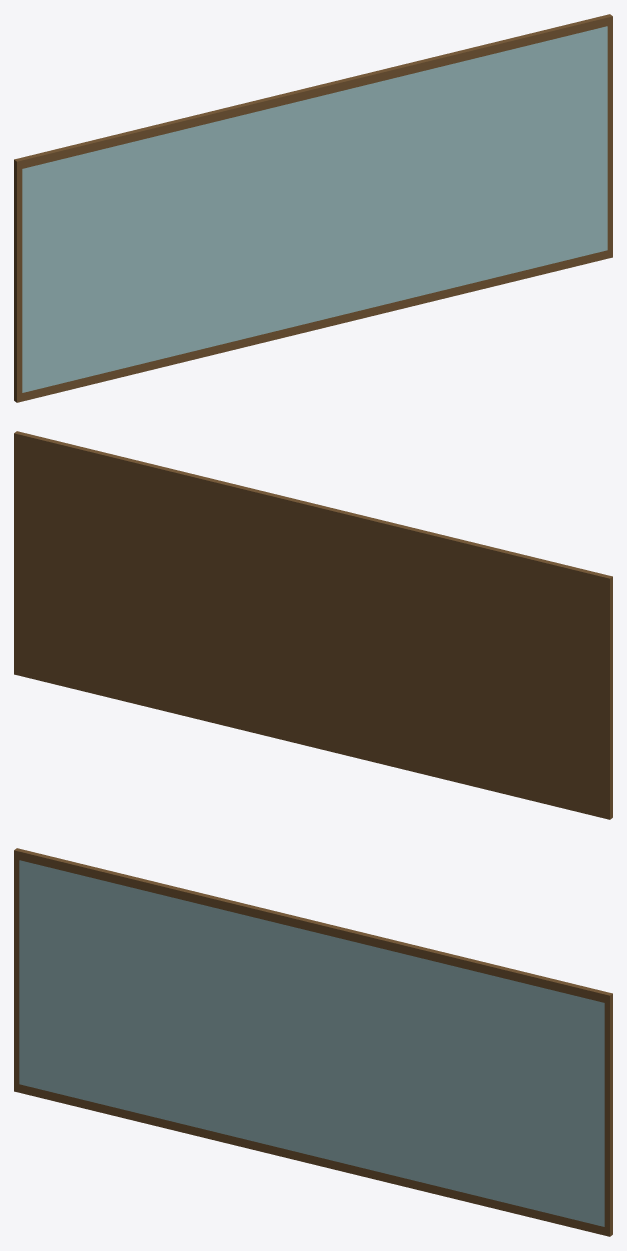
The model's file is LargeMirrorGeo.fbx.
The picture shows the model from 3 angles, top to bottom: view 1: azimuth 30°, elevation 25°; view 2: azimuth 150°, elevation 25°; view 3: azimuth 330°, elevation 25°; orthographic projection.
Parts seen in each view (by area): view 1: LargeMirrorGeo; view 2: LargeMirrorGeo; view 3: LargeMirrorGeo.
Part boxes in pixels (<box>): LargeMirrorGeo: <box>14,14,612,402</box>; LargeMirrorGeo: <box>14,431,612,819</box>; LargeMirrorGeo: <box>14,848,612,1236</box>.
Bounding box in the file's own units: 554 × 214 × 4.88.
